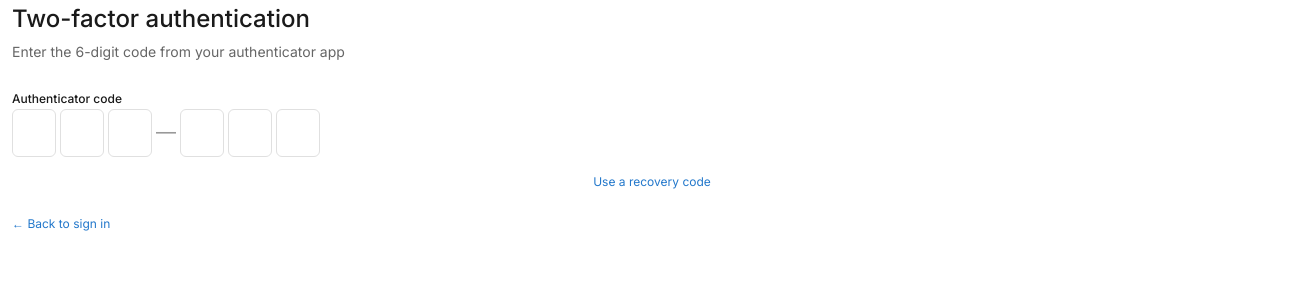
Test: MfaChallengeForm › switches back to TOTP mode when "Use authenticator app instead" is clicked
Switch to recovery mode first.
Click the button "Use a recovery code".
click(652, 182)  # box [12,173,1292,191]
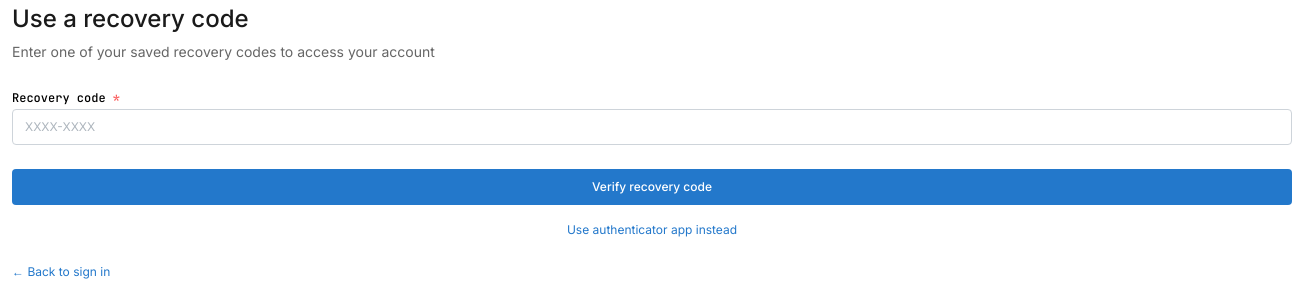
Expected: the button "Use authenticator app instead" is shown
Switch back to TOTP mode.
Click the button "Use authenticator app instead".
click(652, 230)  # box [12,221,1292,239]
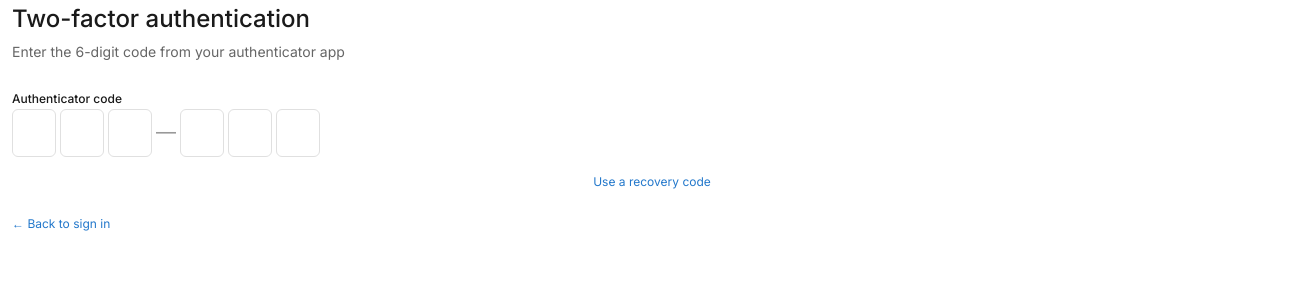
Expected: the number of fields is 6, [12,109,56,157]; [60,109,104,157]; [108,109,152,157]; [180,109,224,157]; [228,109,272,157]; [276,109,320,157]
